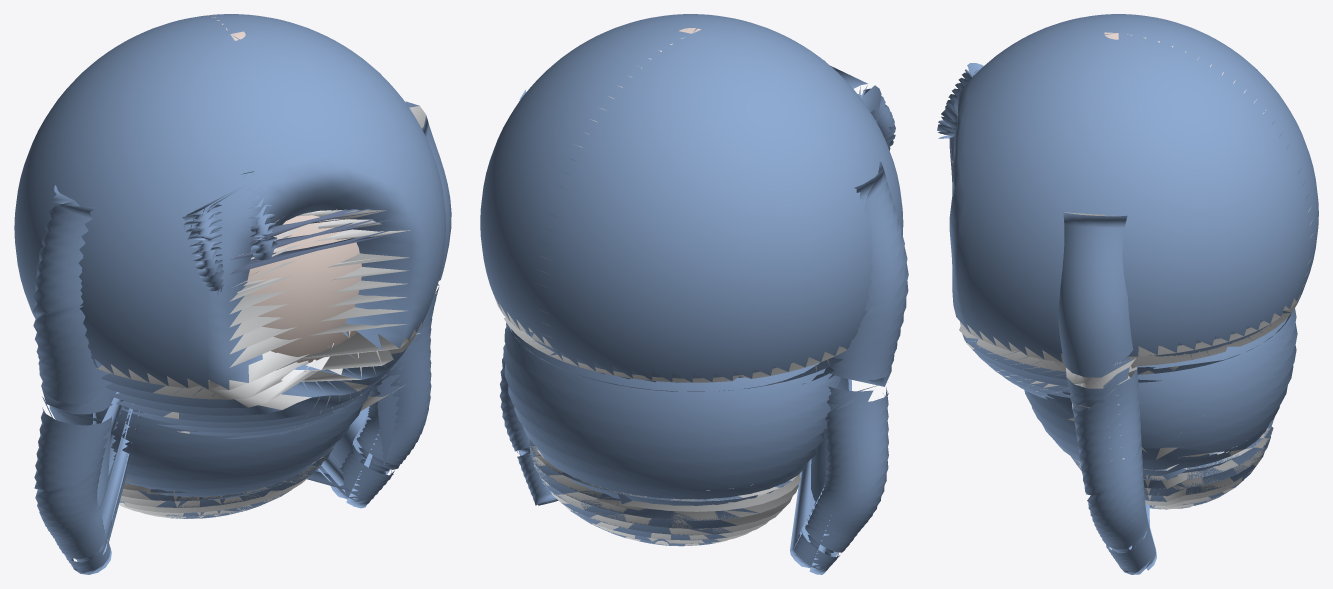
Rendered from shenshen.glb.
3 renders of one model, left to right at view 1: azimuth 30°, elevation 25°; view 2: azimuth 150°, elevation 25°; view 3: azimuth 270°, elevation 25°, orthographic. The views are drawn at different scales.
Visible parts, largest first — view 1: shenshen; view 2: shenshen; view 3: shenshen.
Part boxes in pixels (box(x1,y1,x2,y2)): shenshen: box(14, 14, 451, 574); shenshen: box(480, 14, 908, 574); shenshen: box(937, 14, 1318, 574).
Bounding box in the file's own units: 1.36 × 1.63 × 1.18.
